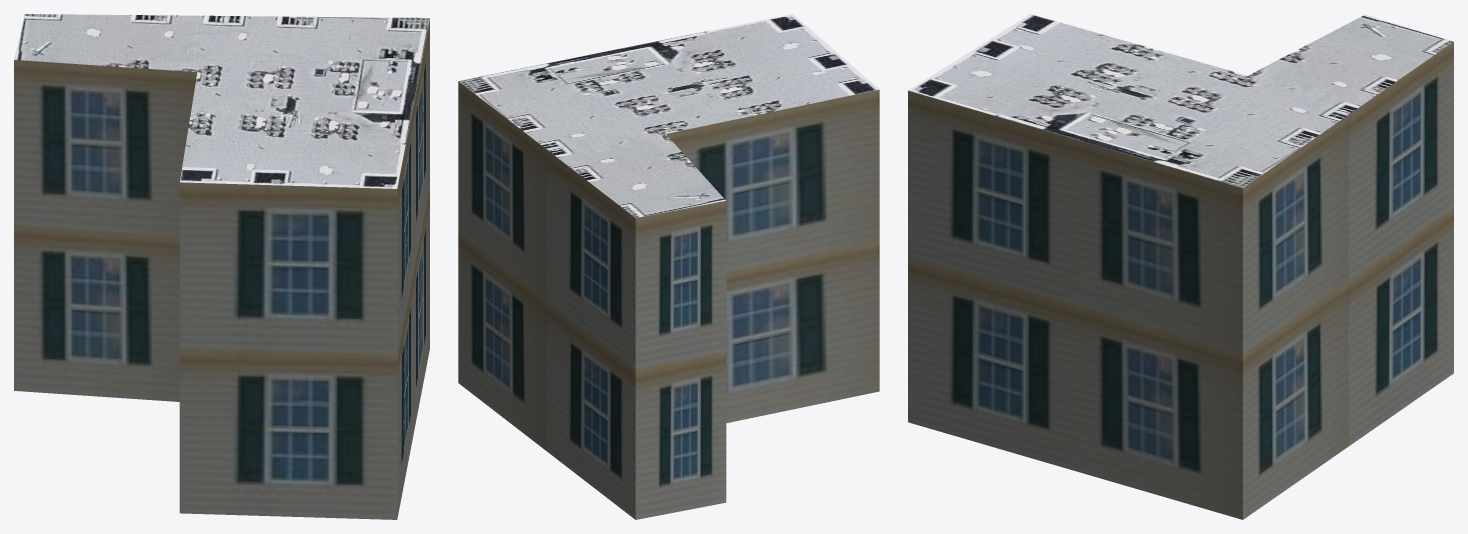
The model's file is ResTex__3436.fbx.
3 renders of one model, left to right at view 1: azimuth 30°, elevation 25°; view 2: azimuth 150°, elevation 25°; view 3: azimuth 270°, elevation 25°, orthographic. The views are drawn at different scales.
Parts seen in each view (by area): view 1: CityEngineMaterial_7_m, CityEngineMaterial_8_m; view 2: CityEngineMaterial_7_m, CityEngineMaterial_8_m; view 3: CityEngineMaterial_7_m, CityEngineMaterial_8_m.
Boxes of the visible parts, x1,y1,x2,y2 form: CityEngineMaterial_7_m: (14, 19, 429, 519); CityEngineMaterial_8_m: (14, 14, 429, 188); CityEngineMaterial_7_m: (458, 81, 879, 519); CityEngineMaterial_8_m: (458, 14, 879, 217); CityEngineMaterial_7_m: (908, 42, 1453, 519); CityEngineMaterial_8_m: (908, 14, 1453, 187).
Bounding box in the file's own units: 6.76 × 6 × 8.95.
Materials: 2 (2 with a texture image).
